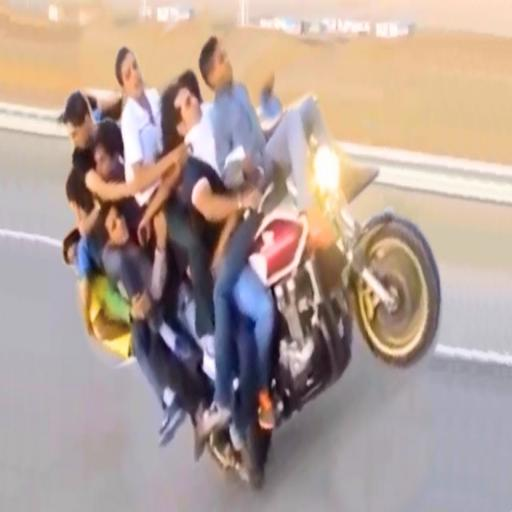helmet: (350, 208, 442, 368)
